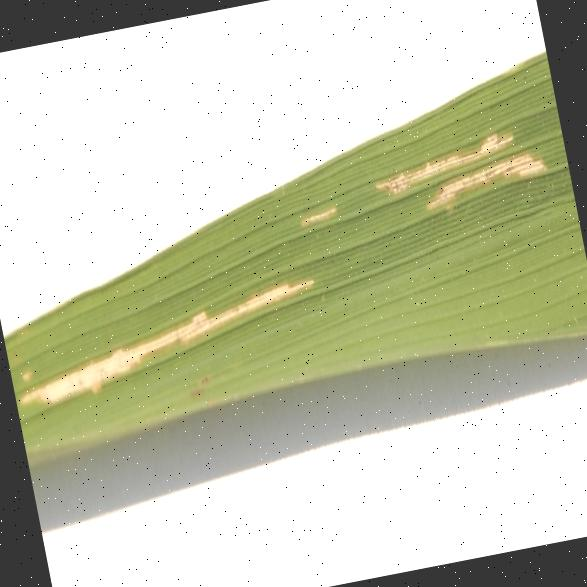Bacteria_Leaf_Blight: (11, 266, 324, 378), (356, 121, 564, 255)
